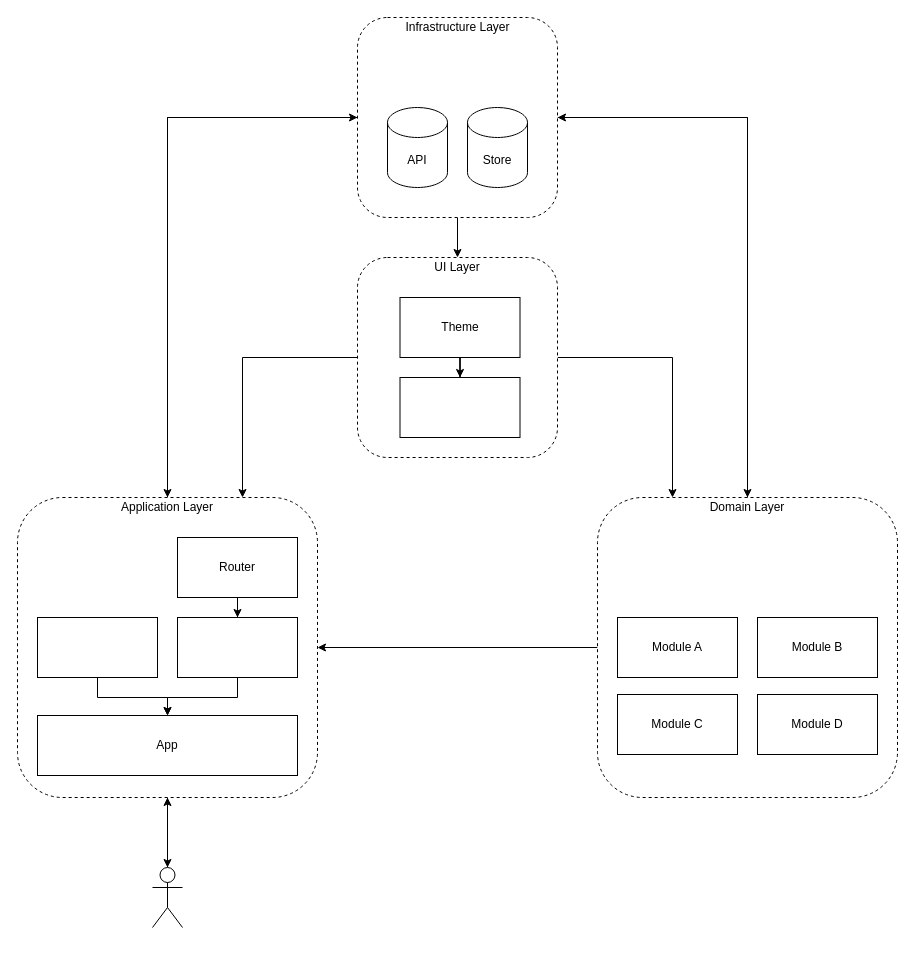
Image size: 915x966. Some labels were removed from this diagram. Here are the shapes that lost their labels. From the top down, the box of each, then its label:
(399, 376, 520, 438): Shared Components
(36, 616, 158, 678): Configuration
(176, 616, 298, 678): Pages
(152, 866, 182, 928): User
